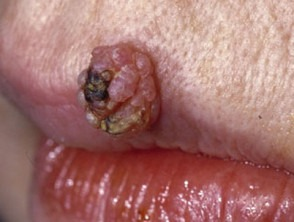Warts: (72, 35, 169, 146)
